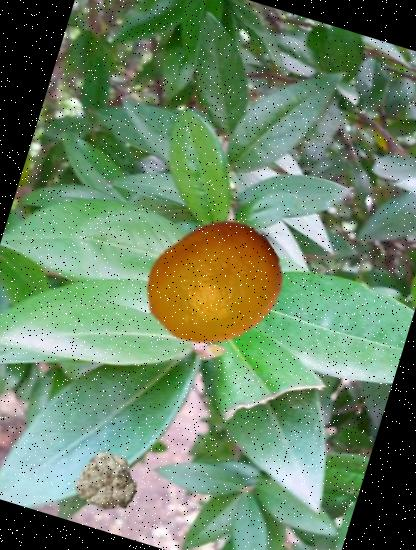Cauliflower: (68, 440, 148, 520)
Lemon: (126, 198, 301, 372)
